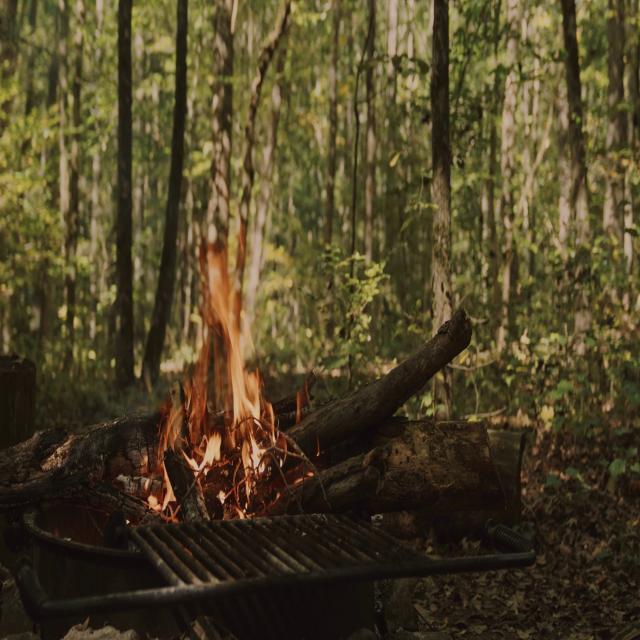Fire: (147, 262, 286, 526)
